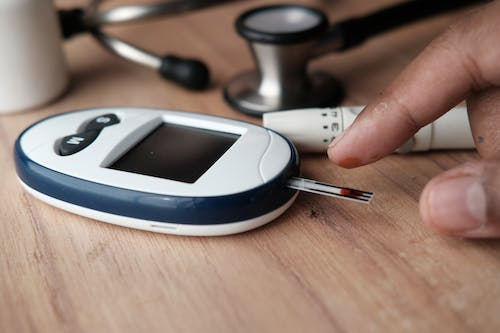blood: (336, 154, 363, 171), (340, 185, 364, 199)
